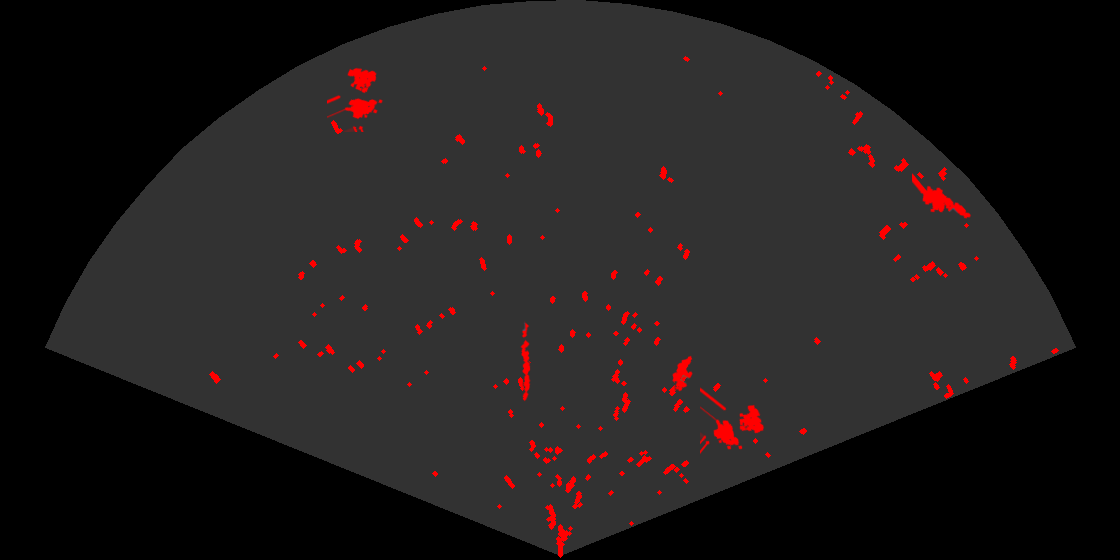AUV: (671, 354, 694, 393)
cage: (700, 386, 766, 456), (327, 66, 384, 132)
chain: (519, 321, 532, 402)
frogman: (912, 172, 973, 220)
